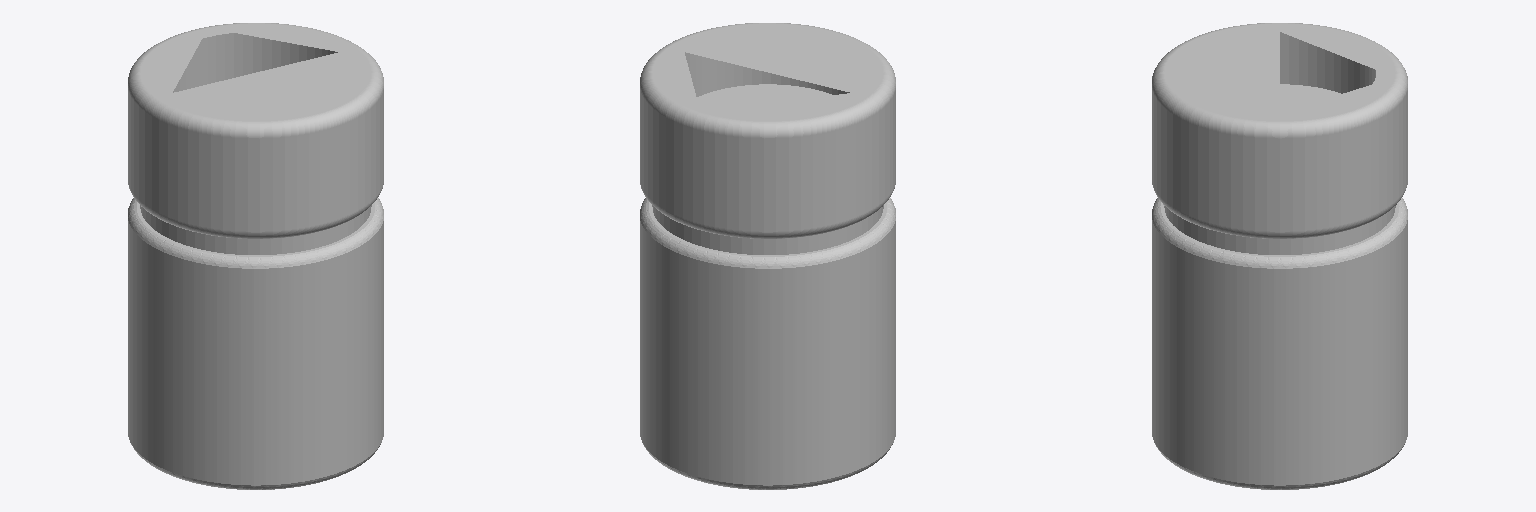
File: shortDarkHoleCylinder.obj
3 renders of one model, left to right at view 1: azimuth 30°, elevation 25°; view 2: azimuth 150°, elevation 25°; view 3: azimuth 270°, elevation 25°, orthographic.
Visible parts, largest first — view 1: Cylinder, Cylinder.002, Cylinder.001; view 2: Cylinder, Cylinder.002, Cylinder.001; view 3: Cylinder, Cylinder.002, Cylinder.001.
Part boxes in pixels (x1,y1,x2,y2): Cylinder: (128, 198, 383, 489); Cylinder.002: (128, 23, 383, 238); Cylinder.001: (140, 205, 371, 254); Cylinder: (640, 198, 895, 489); Cylinder.002: (640, 23, 895, 238); Cylinder.001: (652, 205, 883, 254); Cylinder: (1152, 198, 1407, 489); Cylinder.002: (1152, 23, 1407, 238); Cylinder.001: (1164, 206, 1395, 254).
Size of the model in its own units: 2 by 3.15 by 2.